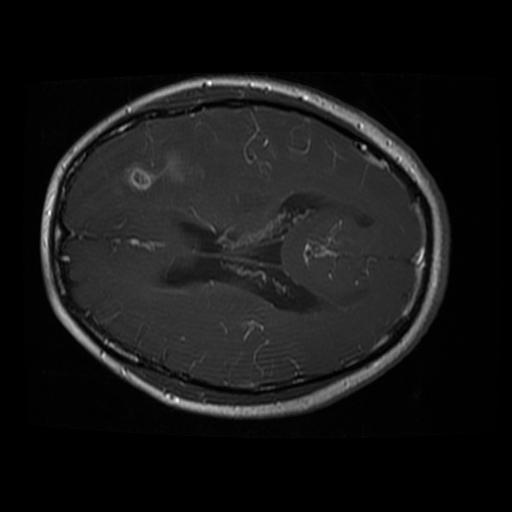glioma: (112, 116, 217, 216)
